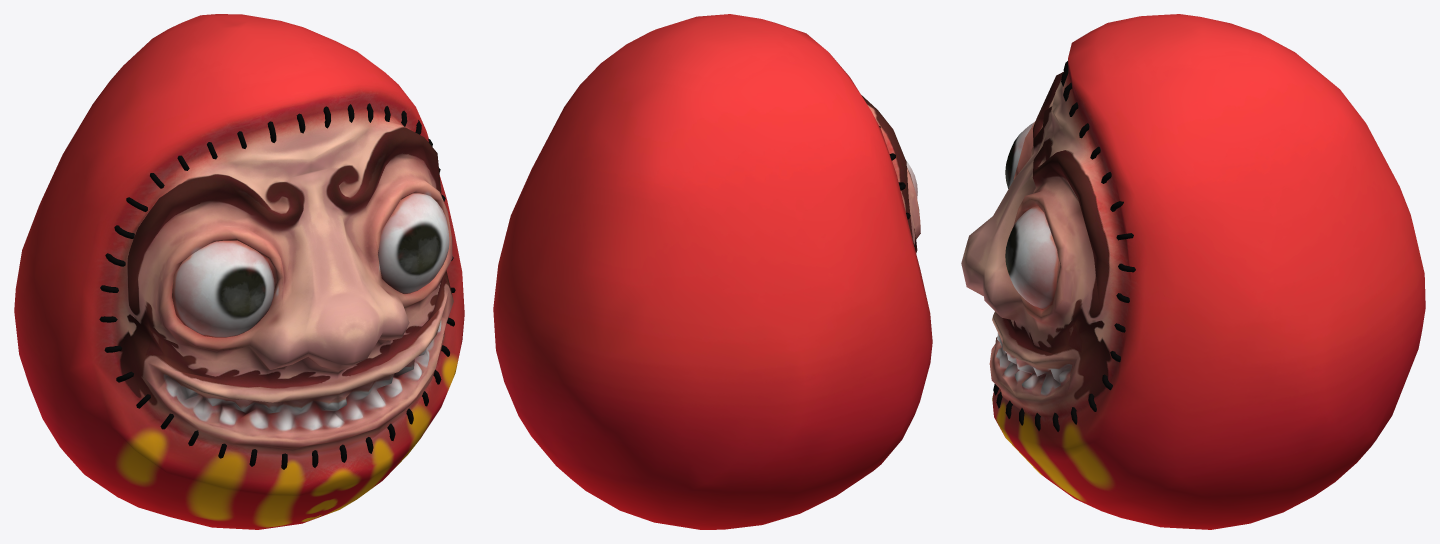
Rendered from daruma.glb.
3 renders of one model, left to right at view 1: azimuth 30°, elevation 25°; view 2: azimuth 150°, elevation 25°; view 3: azimuth 270°, elevation 25°, orthographic. The views are drawn at different scales.
Visible parts, largest first — view 1: PolySphere1_3, pSphere3, pSphere2, saxxas; view 2: PolySphere1_3; view 3: PolySphere1_3, pSphere2, pSphere3, saxxas.
Part boxes in pixels (bbox=[...]): PolySphere1_3: bbox=[14, 14, 464, 529]; pSphere3: bbox=[172, 193, 446, 337]; pSphere2: bbox=[172, 193, 449, 337]; saxxas: bbox=[99, 103, 455, 469]; PolySphere1_3: bbox=[493, 14, 932, 529]; PolySphere1_3: bbox=[961, 14, 1425, 529]; pSphere2: bbox=[1005, 122, 1056, 309]; pSphere3: bbox=[1009, 138, 1058, 305]; saxxas: bbox=[993, 61, 1135, 431].
Size of the model in its own units: 0.0372 by 0.0434 by 0.0383.
3 materials, 2 textured.
